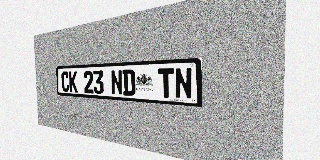2: (84, 71, 93, 93)
3: (93, 70, 104, 94)
C: (61, 71, 69, 92)
D: (122, 69, 135, 96)
K: (69, 71, 78, 93)
N: (174, 67, 192, 99), (111, 70, 123, 95)
T: (158, 68, 174, 98)
